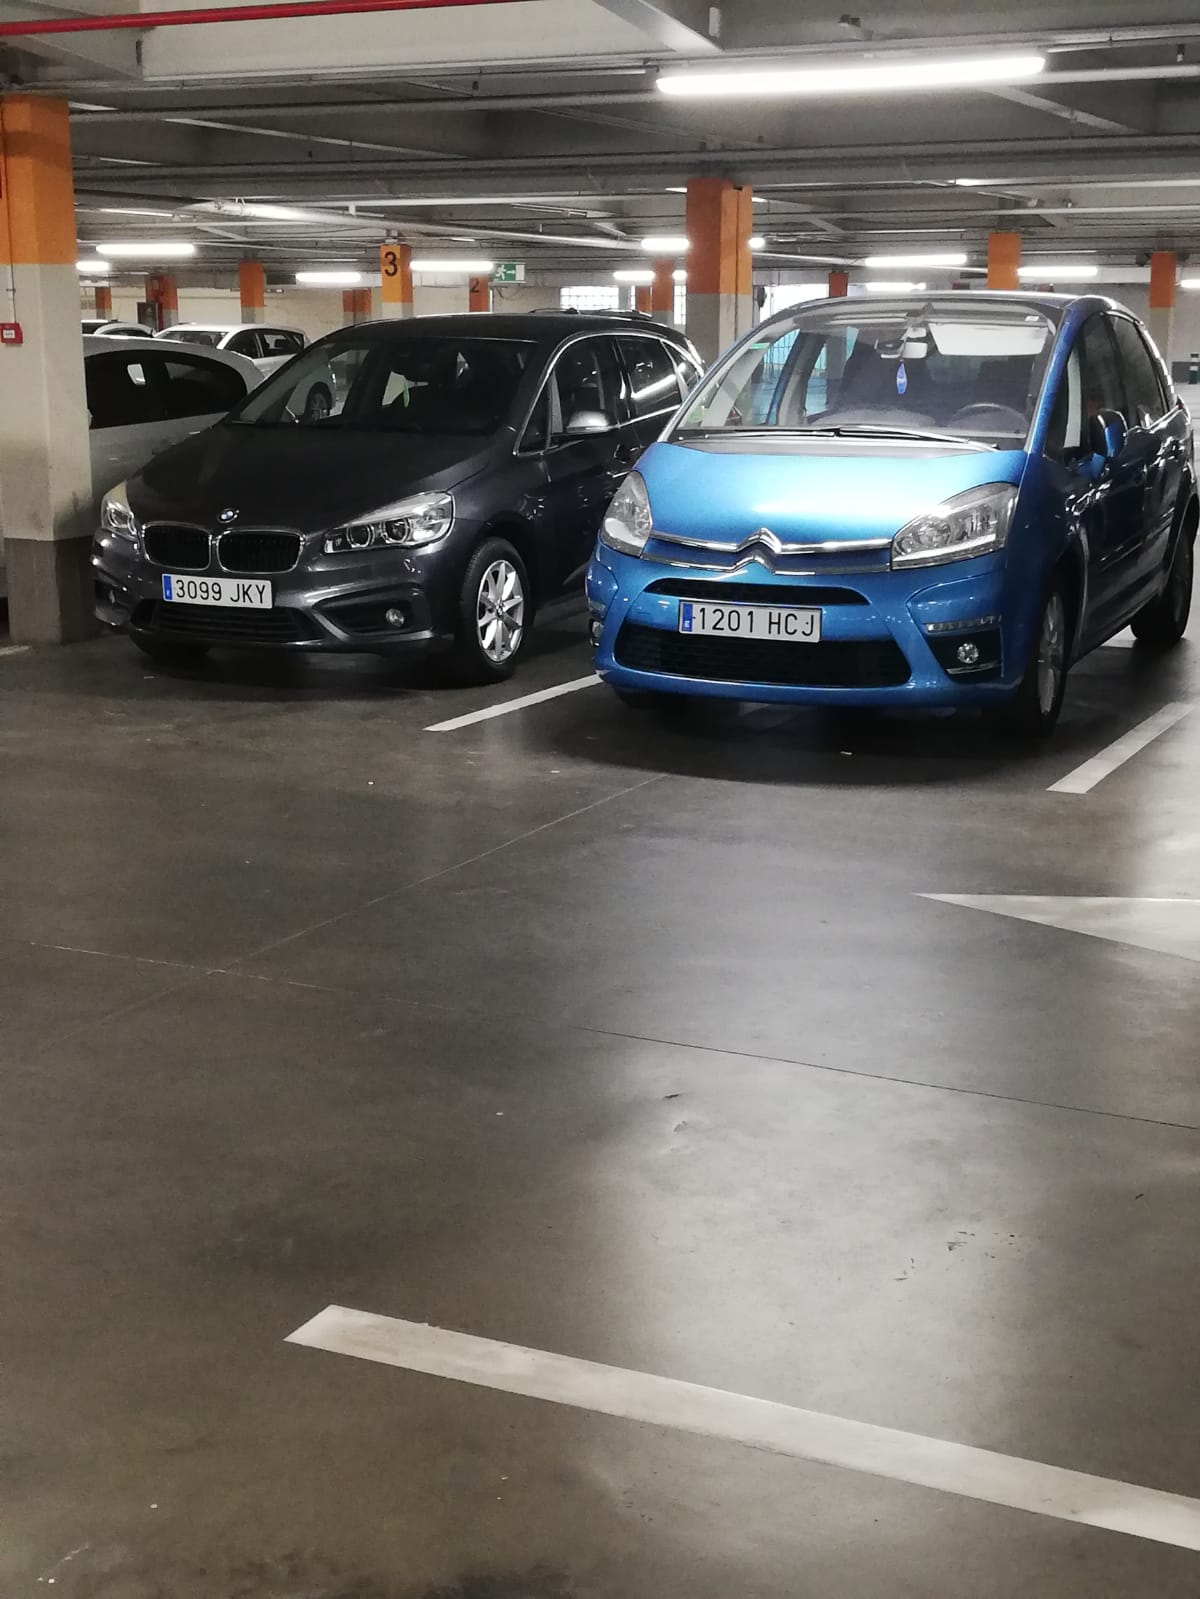Car: (588, 298, 1191, 726), (98, 313, 591, 676)
Plate: (679, 598, 819, 635), (163, 570, 272, 604)
